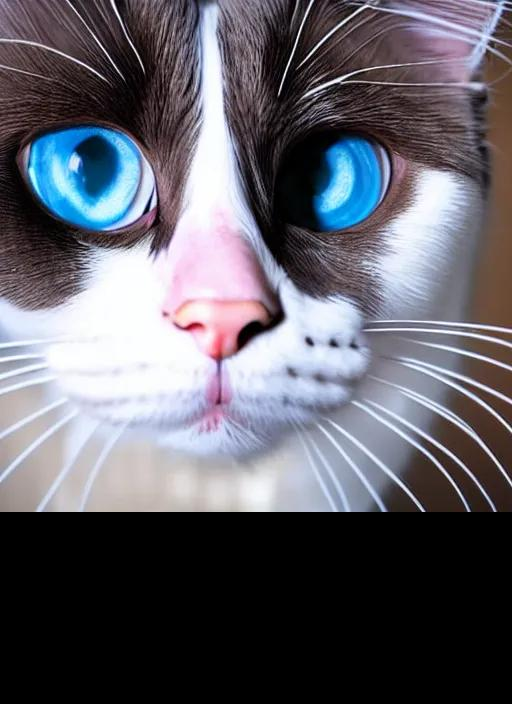ragdoll: (1, 1, 466, 466)
